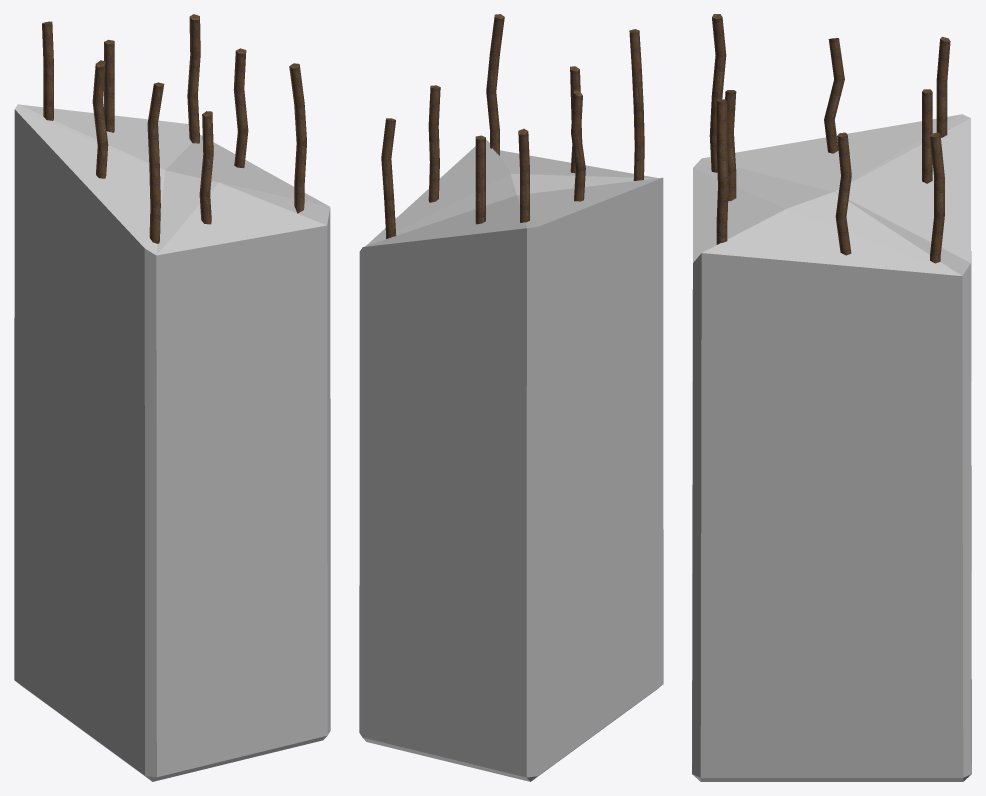
File: CIV_Pier_Tall_002.fbx
3 views of the same model, side by side, from view 1: azimuth 30°, elevation 25°; view 2: azimuth 150°, elevation 25°; view 3: azimuth 270°, elevation 25° (orthographic). The views are drawn at different scales.
Visible parts, largest first — view 1: CIV_Pier_Tall_002; view 2: CIV_Pier_Tall_002; view 3: CIV_Pier_Tall_002.
Part boxes in pixels (<box>): CIV_Pier_Tall_002: <box>14,14,330,781</box>; CIV_Pier_Tall_002: <box>359,14,663,781</box>; CIV_Pier_Tall_002: <box>692,14,971,781</box>.
Size of the model in its own units: 250 by 886 by 325.
